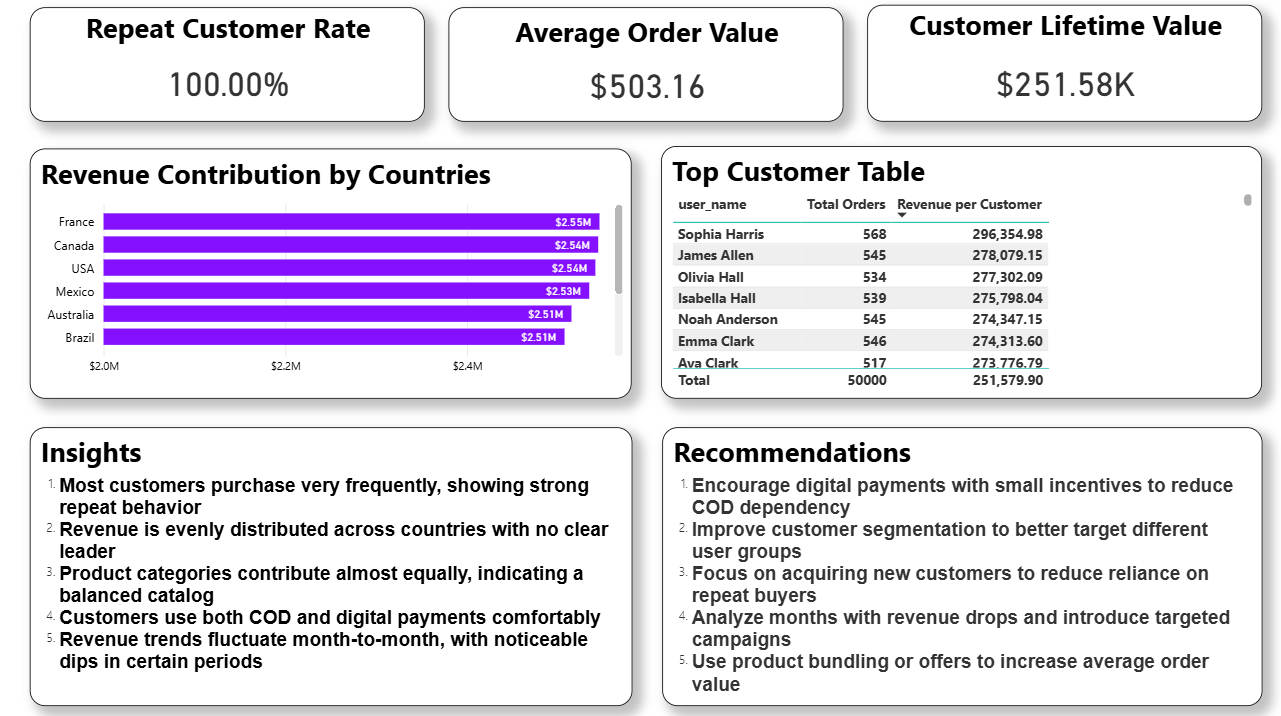

What the dashboard file says about the page in this screenshot:
{"tool":"powerbi","page":{"name":"Customer Insights","canvas":[1280,720],"ordinal":1},"visuals":[{"type":"card","title":"Repeat Customer Rate","fields":{"Values":["public ecommerce.Repeat Customer Rate %"]},"box":[37.3,15.7,386.7,112],"z":0},{"type":"card","title":"Average Order Value","fields":{"Values":["public ecommerce.Avg Order Value"]},"box":[447,15.7,386.7,112],"z":1000},{"type":"card","title":"Customer Lifetime Value","fields":{"Values":["public ecommerce.CLV"]},"box":[856.6,13.3,386.7,114.5],"z":2000},{"type":"barChart","title":"Revenue Contribution by Countries","fields":{"Category":["public ecommerce.country"],"Y":["public ecommerce.Total Revenue"]},"box":[37.3,154.2,589.2,244.6],"z":3000},{"type":"tableEx","title":"Top Customer Table","fields":{"Values":["public ecommerce.user_name","public ecommerce.Total Orders","public ecommerce.Revenue per Customer"]},"box":[655.4,151.6,588.2,247],"z":4000},{"type":"textbox","title":"Insights","box":[37.9,409.6,589.4,299.6],"z":5000},{"type":"textbox","title":"Recommendations","box":[656.7,409.6,587,299.6],"z":6000}]}

Visuals, with their boxes in screenshot pixels (x1, y1, x2, y2), scaled from the page's 1280x720 canvas onto the 1281x716 screenshot:
"Repeat Customer Rate" card: box(37, 16, 424, 127)
"Average Order Value" card: box(447, 16, 834, 127)
"Customer Lifetime Value" card: box(857, 13, 1244, 127)
"Revenue Contribution by Countries" barChart: box(37, 153, 627, 397)
"Top Customer Table" tableEx: box(656, 151, 1245, 396)
"Insights" textbox: box(38, 407, 628, 705)
"Recommendations" textbox: box(657, 407, 1245, 705)
